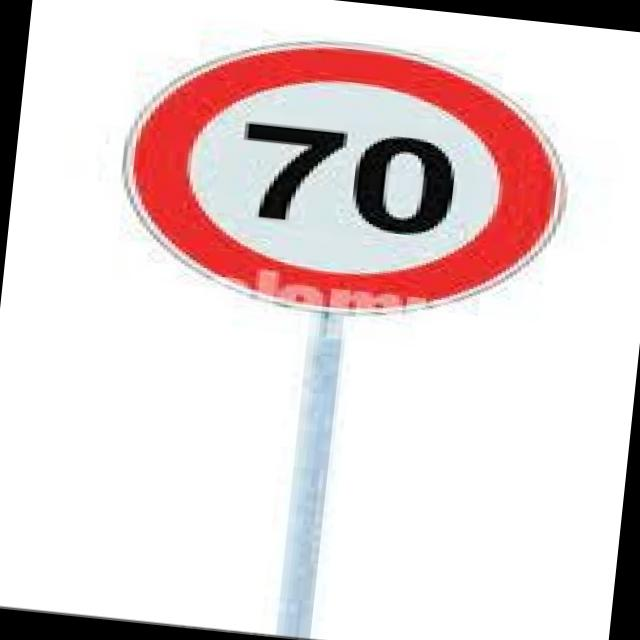speed_limit_70: (105, 13, 582, 342)
